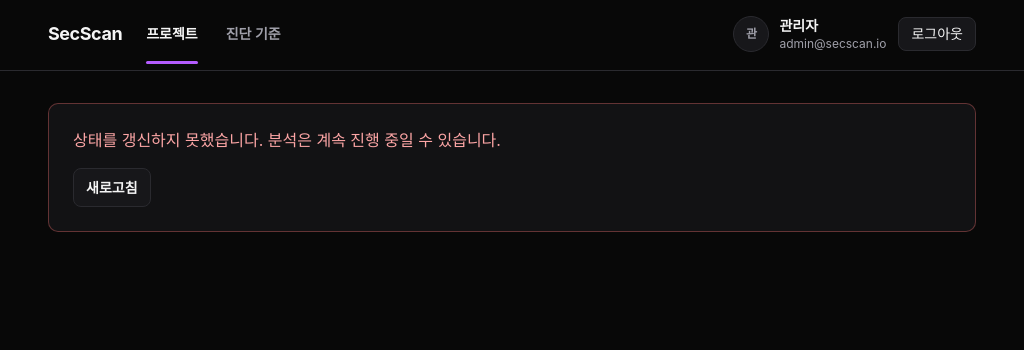
Test case: authentication routes › keeps a polling transport error refreshable instead of rendering it as failed
Expected: the text "상태를 갱신하지 못했습니다. 분석은 계속 진행 중일 수 있습니다." is shown, x1=73 y1=130 x2=501 y2=150
What coordinates should you click on to do the following:
click the button "새로고침"
I would click on:
 (112, 188)
Its box is x1=73 y1=168 x2=150 y2=207.
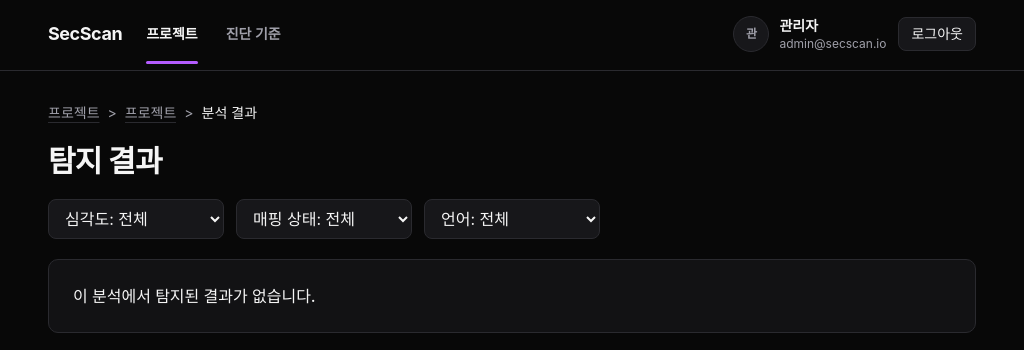
Now the heading "탐지 결과" is shown, box x1=48 y1=143 x2=162 y2=179
